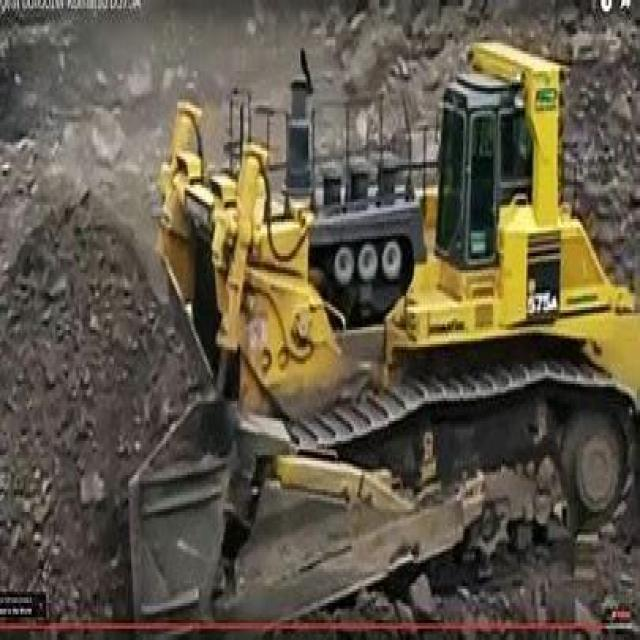Bulldozer: (87, 31, 638, 637)
